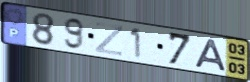1: (128, 26, 143, 59)
7: (167, 31, 193, 66)
8: (30, 12, 56, 48)
9: (62, 16, 86, 51)
A: (192, 38, 229, 74)
Z: (94, 20, 125, 58)
